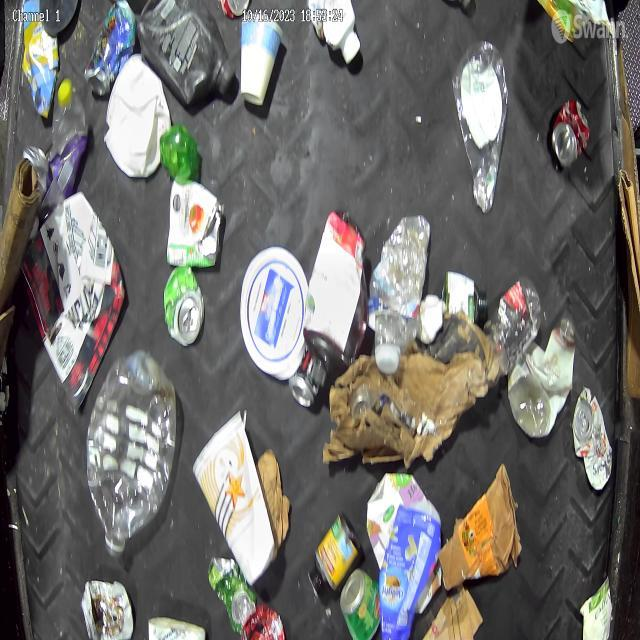can: (166, 179, 224, 269), (85, 0, 137, 95), (572, 386, 612, 490), (208, 556, 258, 635), (80, 580, 134, 640), (164, 267, 204, 347), (340, 568, 380, 640), (552, 98, 590, 168), (289, 347, 322, 407), (241, 605, 286, 640), (218, 0, 250, 19)
non_white_jug: (136, 0, 236, 109), (303, 210, 368, 368), (379, 500, 441, 640)
plastic_bottle: (86, 351, 178, 558), (451, 40, 509, 213), (369, 214, 431, 375), (488, 277, 542, 373), (47, 78, 87, 202)
